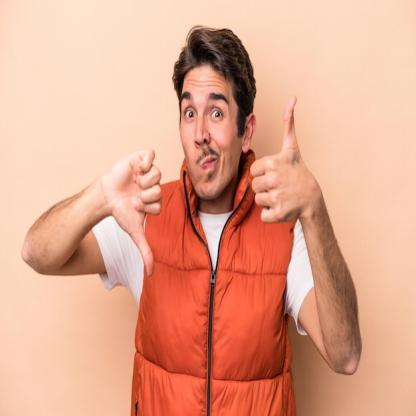thumb_down: (100, 143, 166, 282)
thumb_up: (248, 92, 312, 228)
